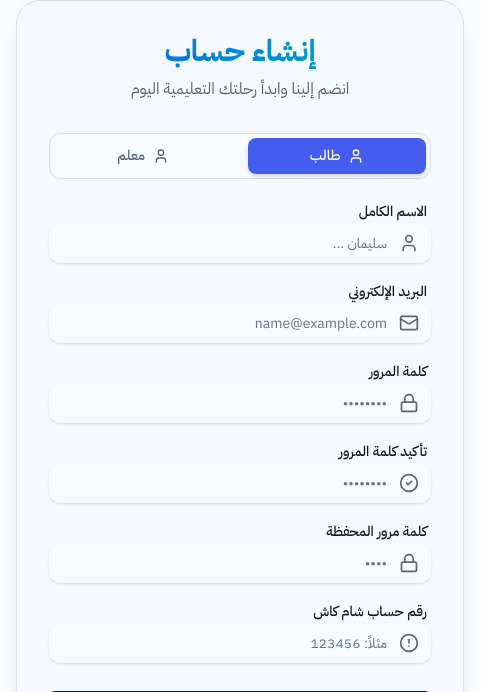
RegisterForm › switches roles when clicking role buttons
This screenshot has width=481, height=692.
Click the button "معلم" at (143, 156), box [54,138,232,174]
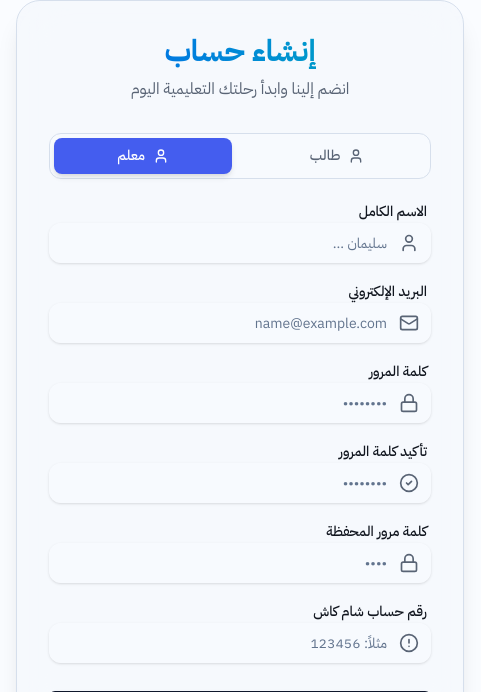
Click the button "طالب" at (337, 156), box [248,138,426,174]
(page scrolled)
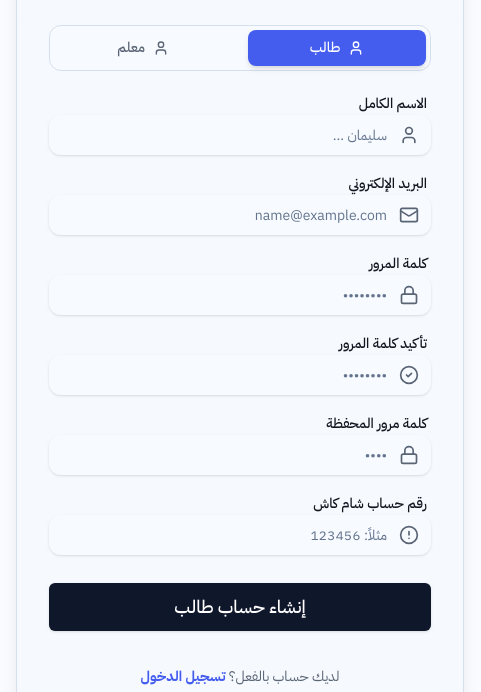
Now the text "إنشاء حساب طالب" is shown, box [174,593,306,621]
